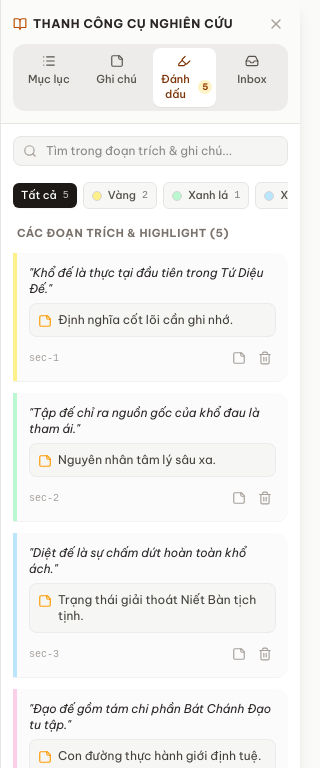
Test case: Phase R3c: Reader Highlights Filtering & Quick Search (Test-First) › 2. Searches excerpts by keyword in selectedText (supports unaccented Vietnamese)
# Type with accents
In the field with test id "highlights-search-input": coordinates (150, 151) x1=13 y1=136 x2=288 y2=166, type "Bát Chánh Đạo"
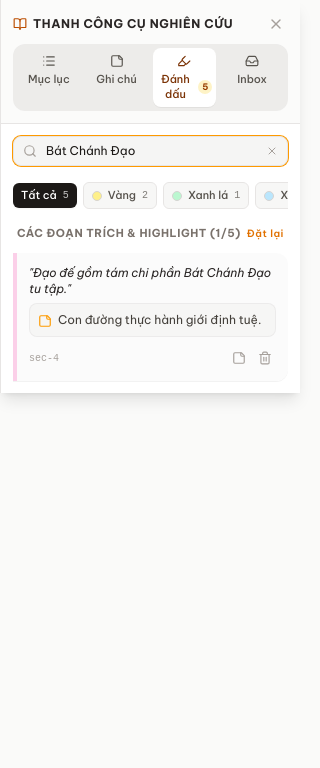
expect the button with test id "excerpt-card-e-4" is shown: met, box x1=13 y1=253 x2=288 y2=381
expect the button with test id "excerpt-card-e-1" is gone: met
expect the button with test id "excerpt-card-e-2" is gone: met
# Clear search using clear button
Click the button with test id "highlights-search-clear": coordinates (272, 151) x1=264 y1=143 x2=280 y2=159
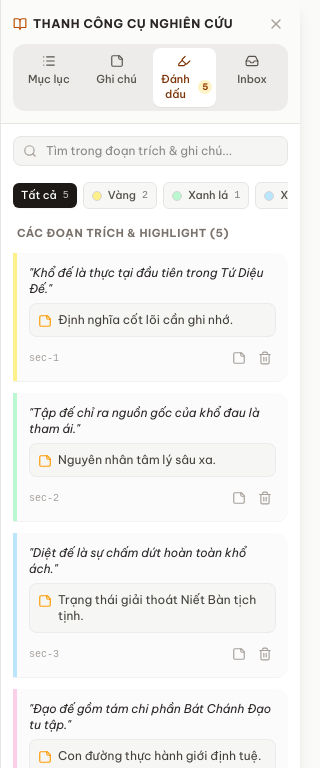
# Search without accents: "ngu uan" matches "ngũ uẩn" in e-5
In the field with test id "highlights-search-input": coordinates (150, 151) x1=13 y1=136 x2=288 y2=166, type "ngu uan"
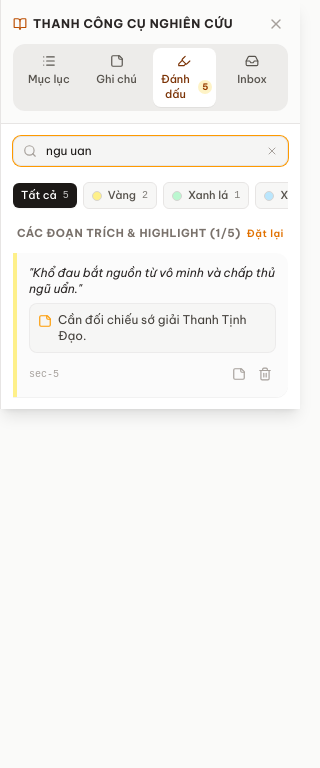
expect the button with test id "excerpt-card-e-5" is shown: met, box x1=13 y1=253 x2=288 y2=397
expect the button with test id "excerpt-card-e-1" is gone: met
